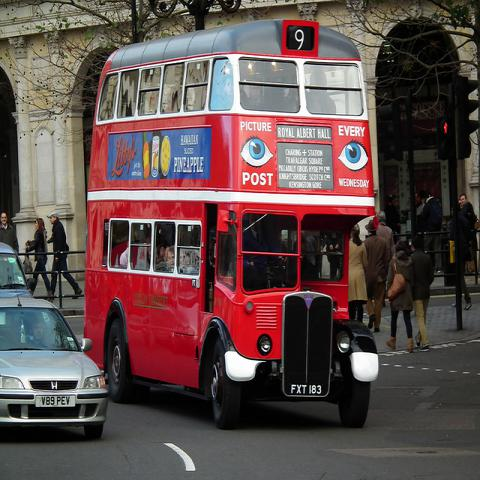bus: (84, 17, 380, 433)
car: (0, 292, 109, 440), (0, 243, 31, 296)
